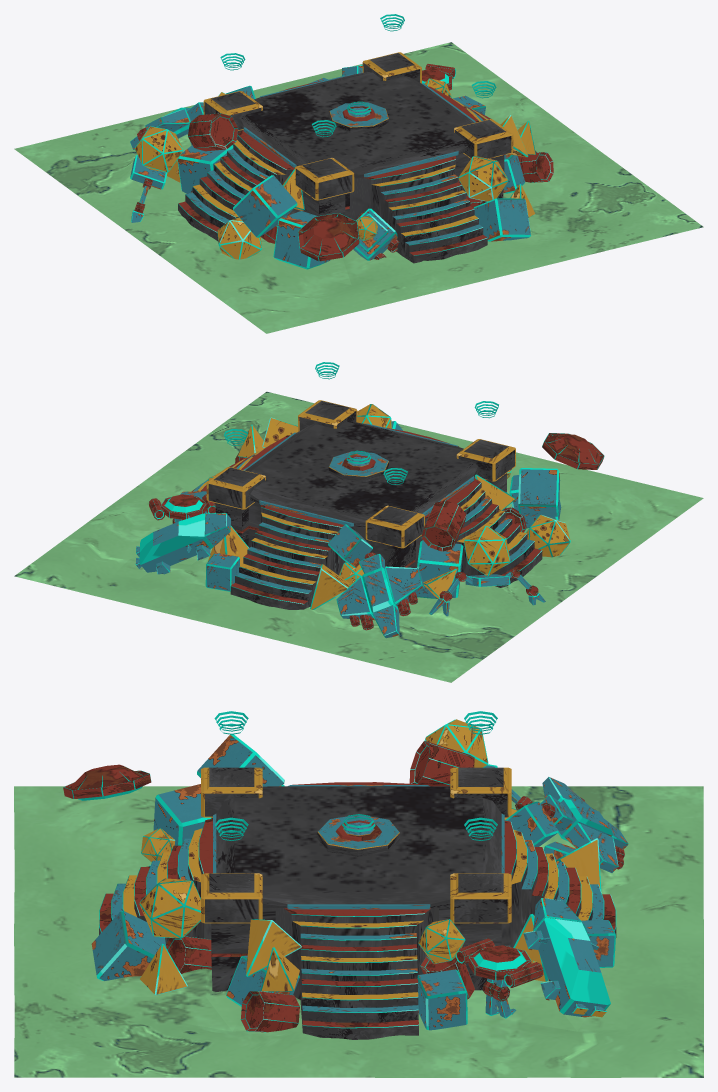
Rendered from DBCPLATAFORMA_20260429.glb.
3 renders of one model, top to bottom at view 1: azimuth 30°, elevation 25°; view 2: azimuth 150°, elevation 25°; view 3: azimuth 270°, elevation 25°, orthographic. The views are drawn at different scales.
Parts seen in each view (by area): view 1: Robocohe01, Plane.2X2; view 2: Robocohe01, Plane.2X2; view 3: Robocohe01, Plane.2X2.
Part boxes in pixels (x1,y1,x2,y2): Robocohe01: [130, 14, 553, 269]; Plane.2X2: [14, 42, 703, 333]; Robocohe01: [135, 362, 604, 638]; Plane.2X2: [14, 391, 703, 682]; Robocohe01: [63, 711, 628, 1039]; Plane.2X2: [14, 786, 703, 1077].
Bounding box in the file's own units: 32.02 × 9.21 × 32.02.
3 materials, 3 textured.
